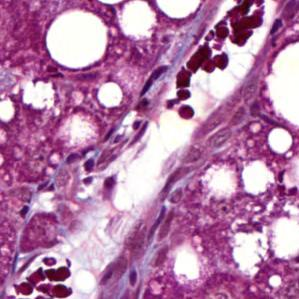steatosis: (43, 12, 110, 69), (94, 81, 123, 111), (266, 127, 295, 156)
